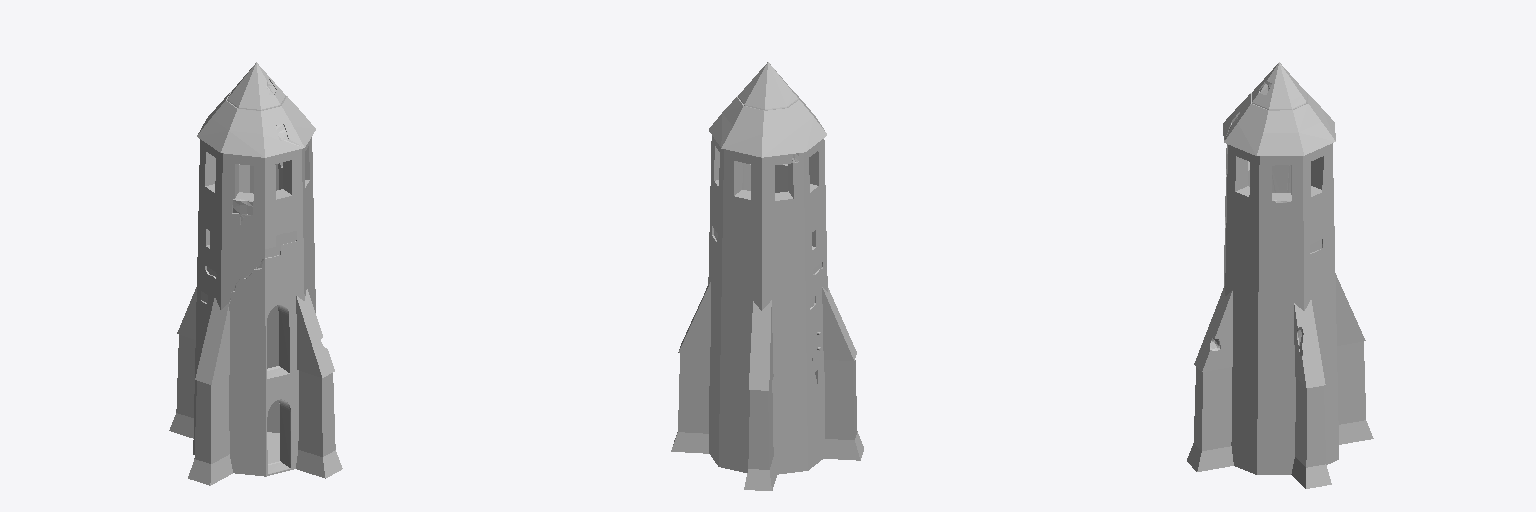
The model's file is lighthouse2.obj.
3 views of the same model, side by side, from view 1: azimuth 30°, elevation 25°; view 2: azimuth 150°, elevation 25°; view 3: azimuth 270°, elevation 25° (orthographic).
Parts seen in each view (by area): view 1: lighhouse:NGon003, lighhouse:Object001, lighhouse:Rectangle004, lighhouse:Rectangle002, lighhouse:Rectangle008; view 2: lighhouse:NGon003, lighhouse:Object001, lighhouse:Rectangle002, lighhouse:Rectangle008, lighhouse:Rectangle006; view 3: lighhouse:NGon003, lighhouse:Object001, lighhouse:Rectangle004, lighhouse:Rectangle006, lighhouse:Rectangle008.
Part boxes in pixels (x1,y1,x2,y2): lighhouse:NGon003: (193,137,315,476); lighhouse:Object001: (197,62,315,157); lighhouse:Rectangle004: (296,289,342,478); lighhouse:Rectangle002: (188,298,232,485); lighhouse:Rectangle008: (169,287,196,438); lighhouse:NGon003: (708,136,827,474); lighhouse:Object001: (709,62,826,157); lighhouse:Rectangle002: (822,287,863,460); lighhouse:Rectangle008: (744,300,776,490); lighhouse:Rectangle006: (671,282,710,453); lighhouse:NGon003: (1224,143,1338,474); lighhouse:Object001: (1223,62,1335,155); lighhouse:Rectangle004: (1187,286,1233,471); lighhouse:Rectangle006: (1291,300,1331,488); lighhouse:Rectangle008: (1335,273,1373,444).
Size of the model in its own units: 114 by 263 by 115.